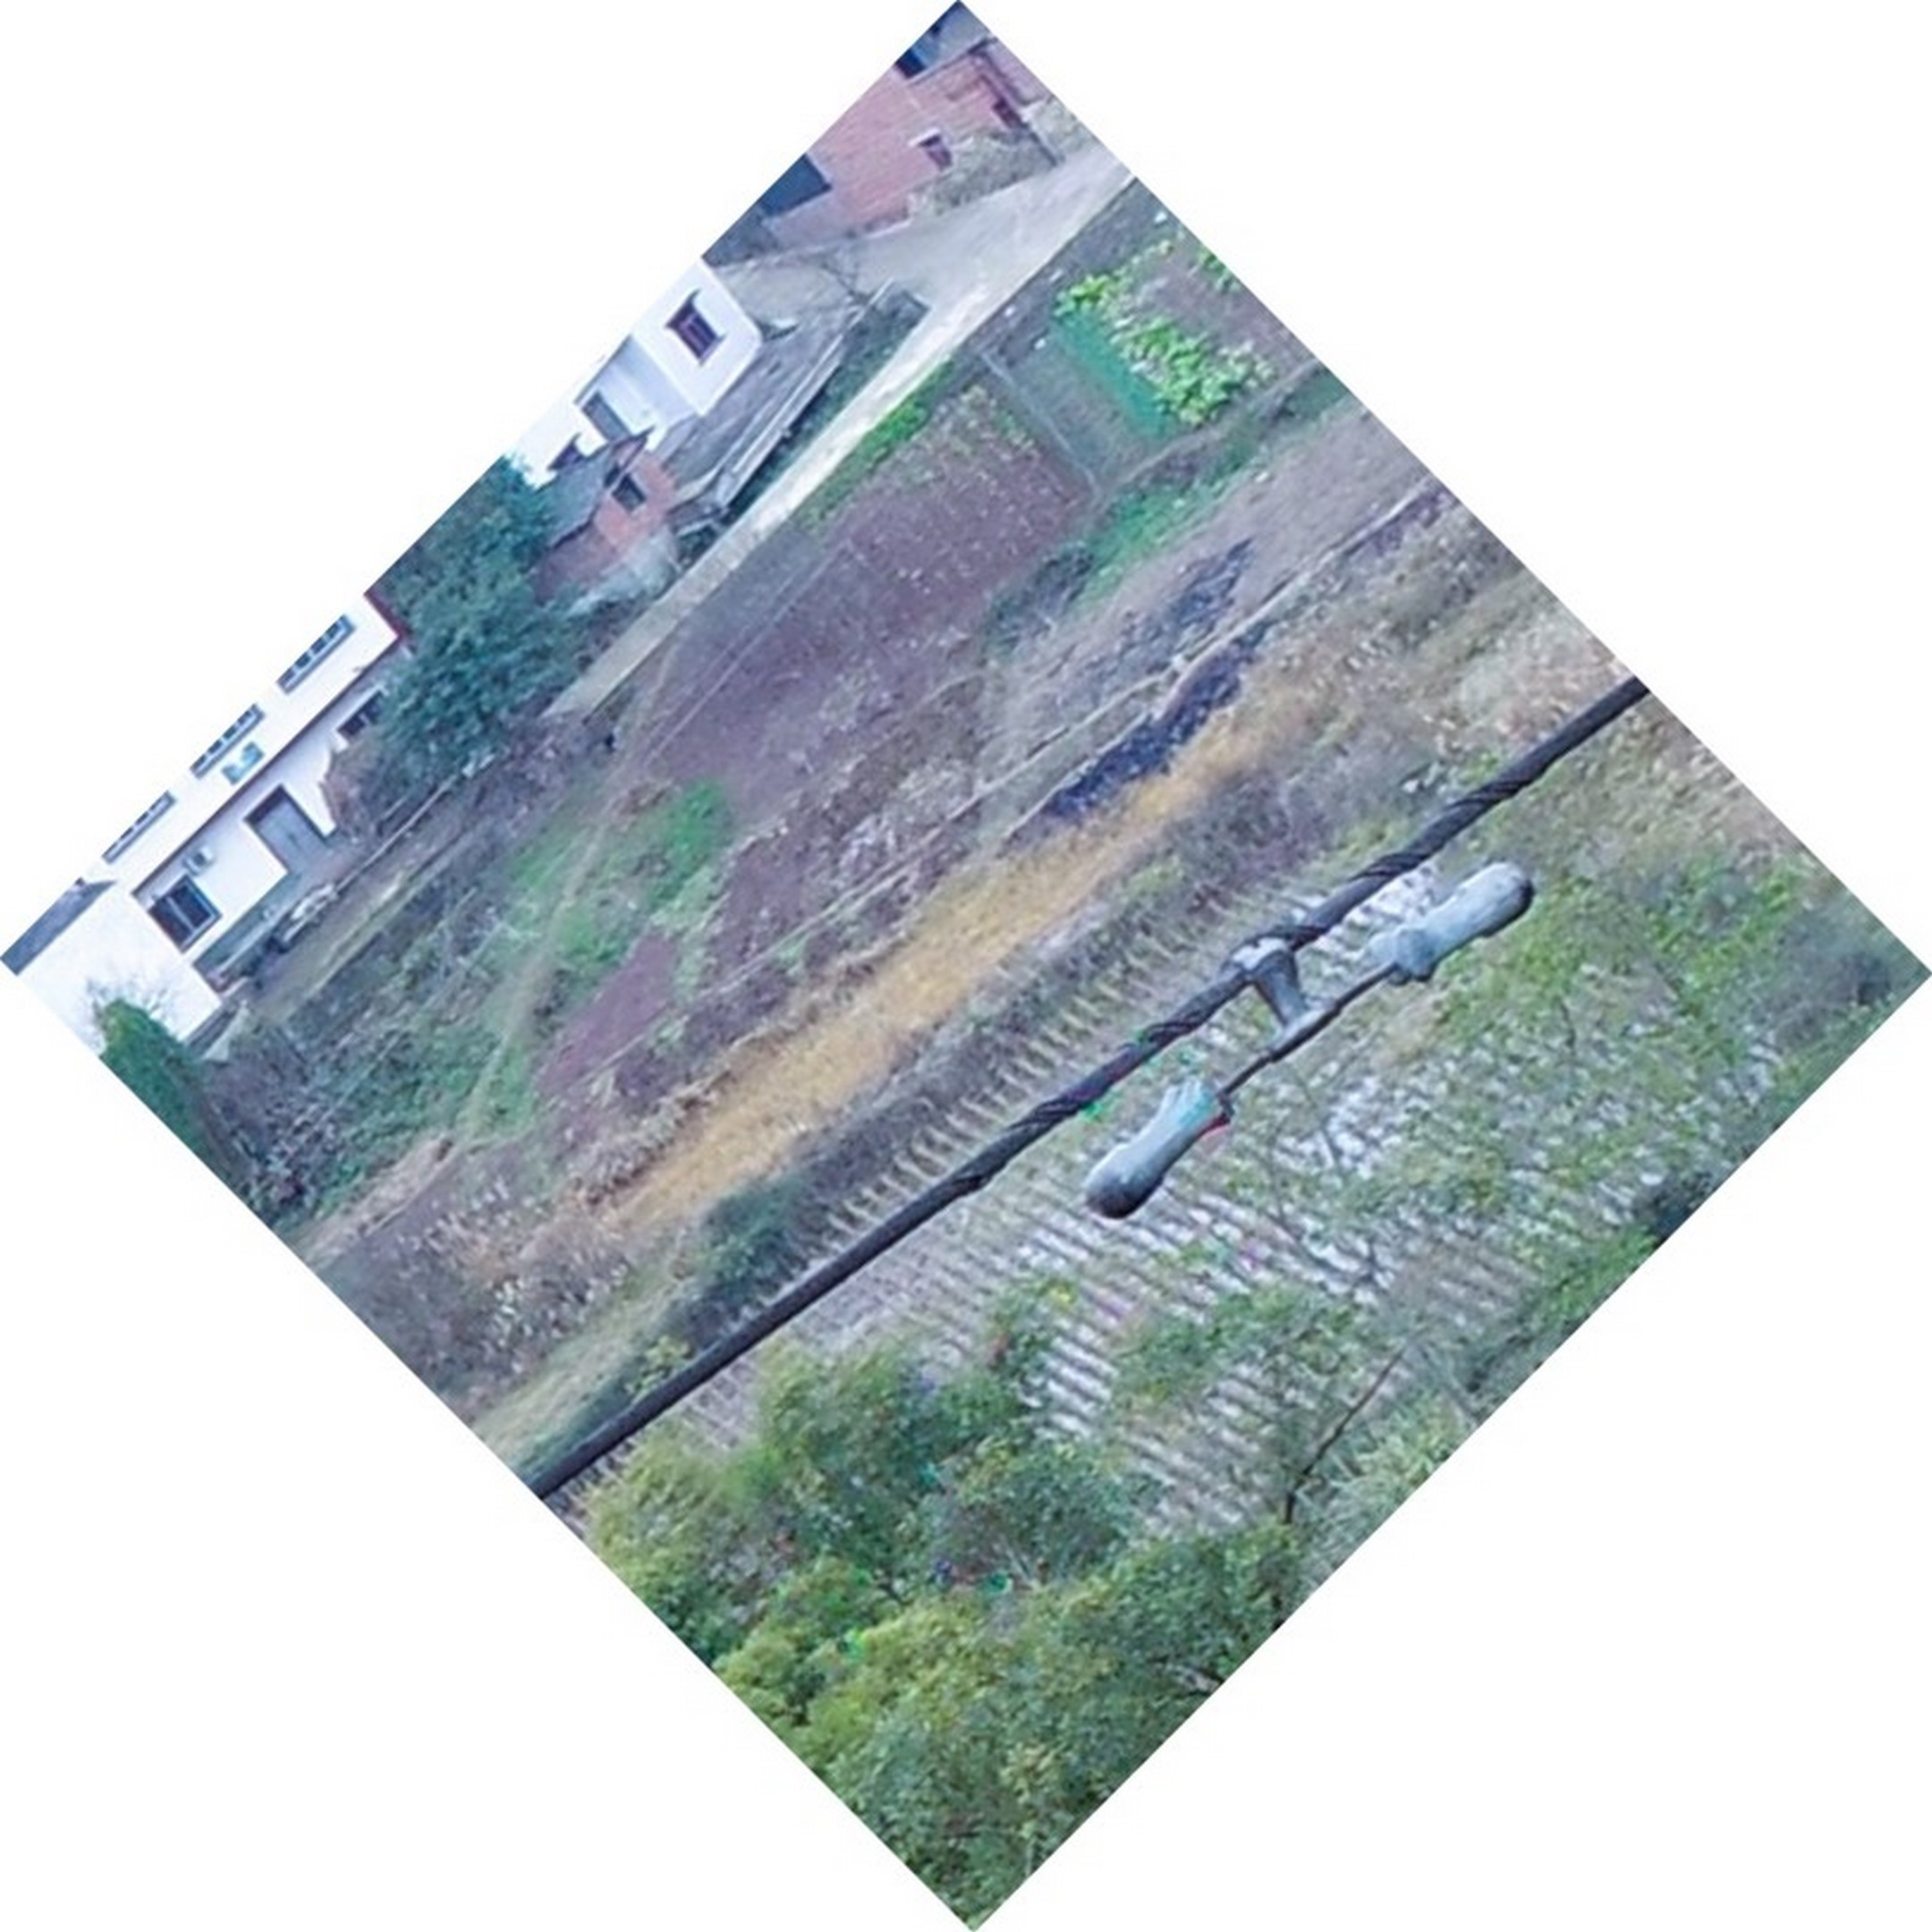Shockproof hammer: (1049, 839, 1548, 1235)
